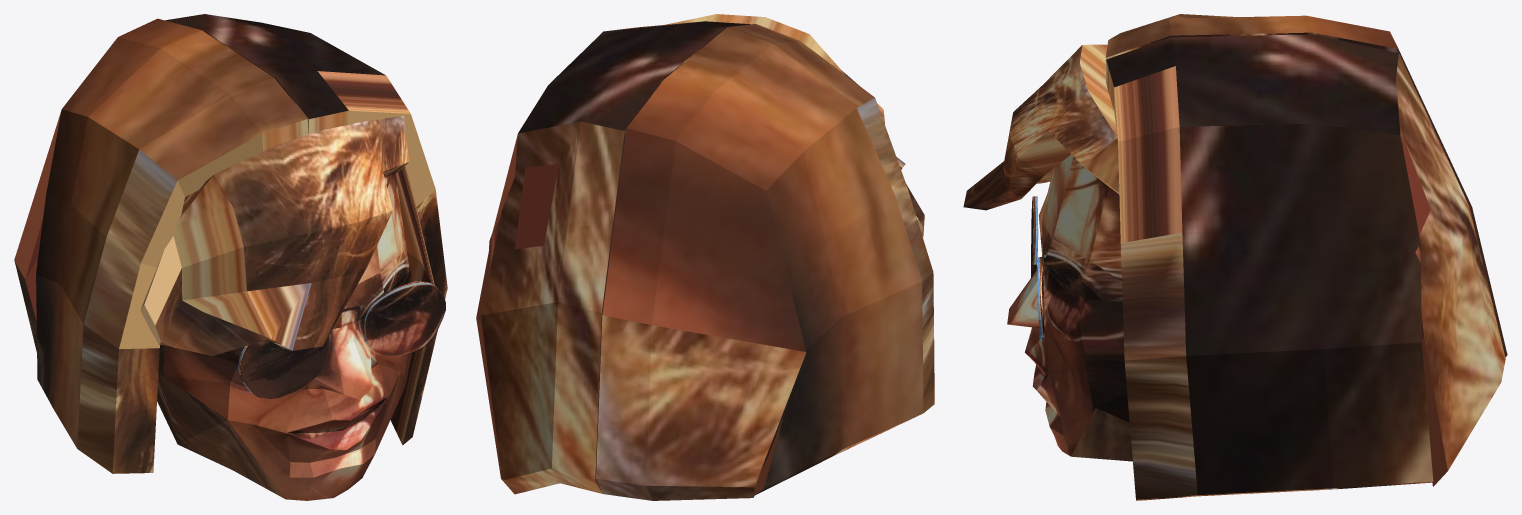
File: sabine.glb
3 views of the same model, side by side, from view 1: azimuth 30°, elevation 25°; view 2: azimuth 150°, elevation 25°; view 3: azimuth 270°, elevation 25° (orthographic). The views are drawn at different scales.
Visible parts, largest first — view 1: Cube, Cylinder, Cylinder.001; view 2: Cube; view 3: Cube.
Part boxes in pixels (<box>): Cube: <box>14,14,447,500</box>; Cylinder: <box>363,281,445,356</box>; Cylinder.001: <box>238,334,331,398</box>; Cube: <box>476,14,934,500</box>; Cube: <box>963,14,1507,500</box>.
Size of the model in its own units: 2.07 by 2.14 by 2.56.
3 materials, 3 textured.
